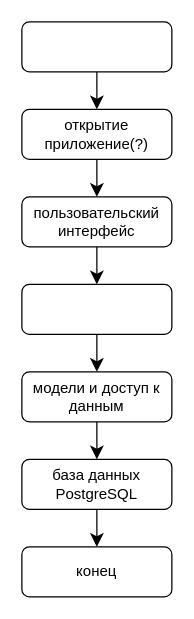
The diagram is 194 pixels wide and 619 high, and some of its shapes have lost their labels. The shapes that lost their labels are listed below. From the top down, each one's centre as x and y in pixels, then its label:
At [96,46]: "начало".
At [96,308]: "логика и функционал приложения".
